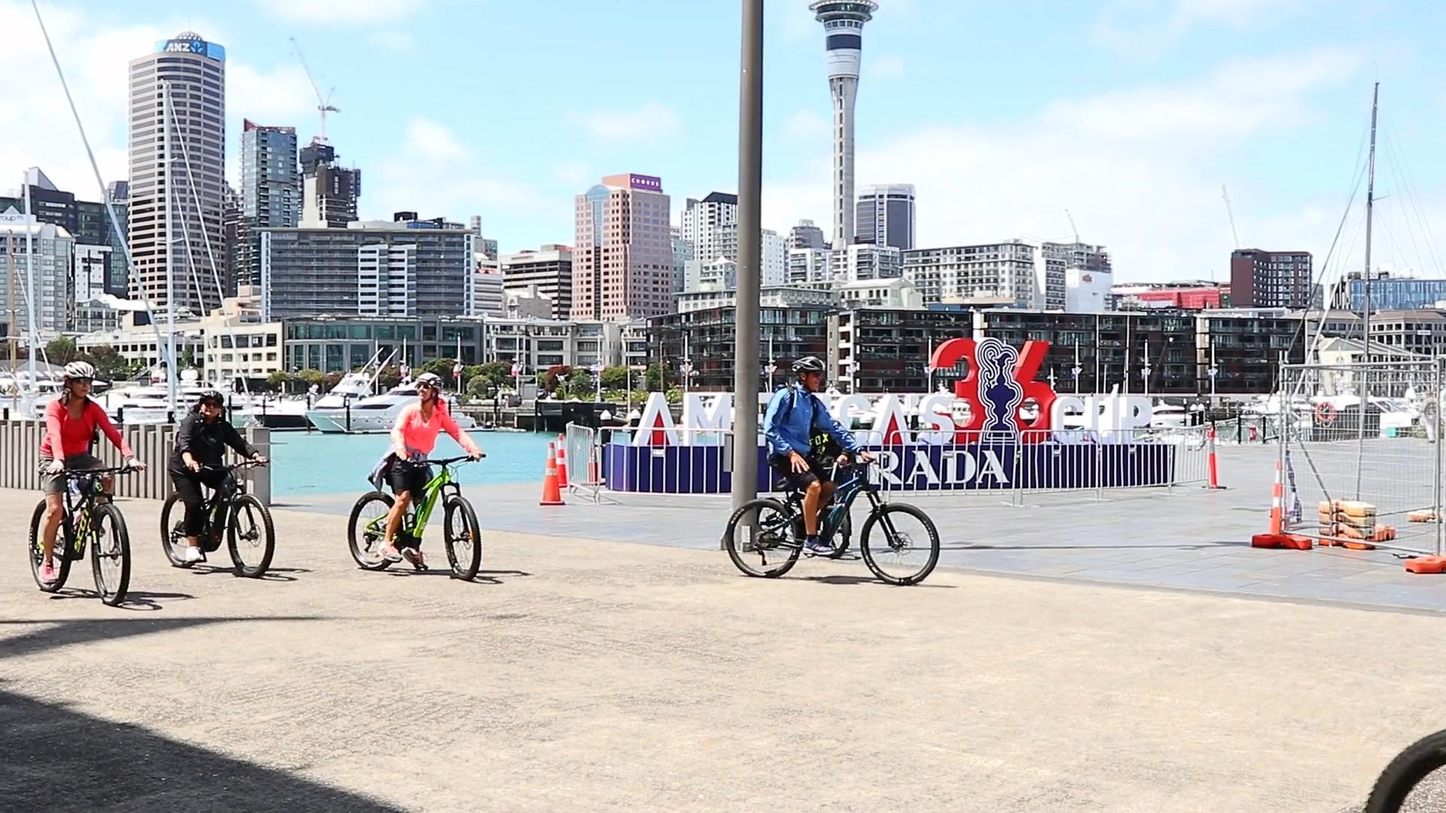bicyclist: (725, 355, 940, 586), (348, 373, 488, 580), (30, 361, 148, 605), (159, 389, 275, 578)
helmet: (791, 355, 826, 393), (63, 362, 95, 400), (416, 373, 444, 405), (198, 390, 224, 421)
